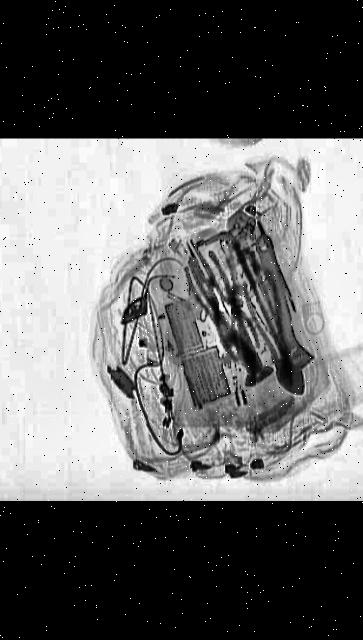Pliers: (175, 251, 255, 362)
Wrench: (236, 232, 322, 396)
